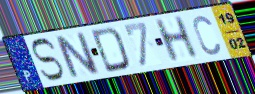7: (122, 21, 150, 69)
C: (191, 14, 223, 57)
D: (89, 25, 132, 74)
H: (151, 14, 201, 65)
N: (52, 30, 103, 79)
S: (30, 37, 66, 83)
